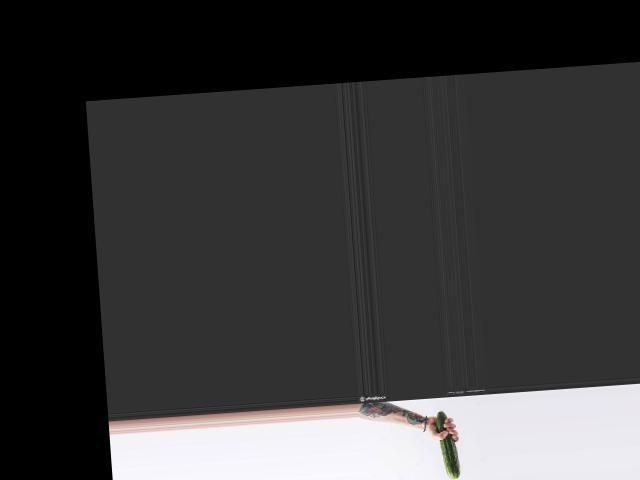cucumber: (436, 410, 461, 480)
